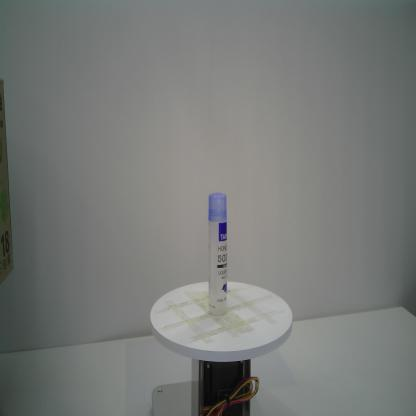Stationery: (208, 192, 228, 316)
